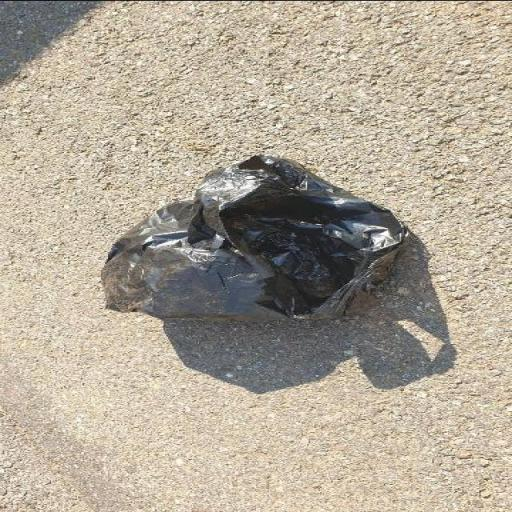plastic-bag: (96, 153, 413, 322)
